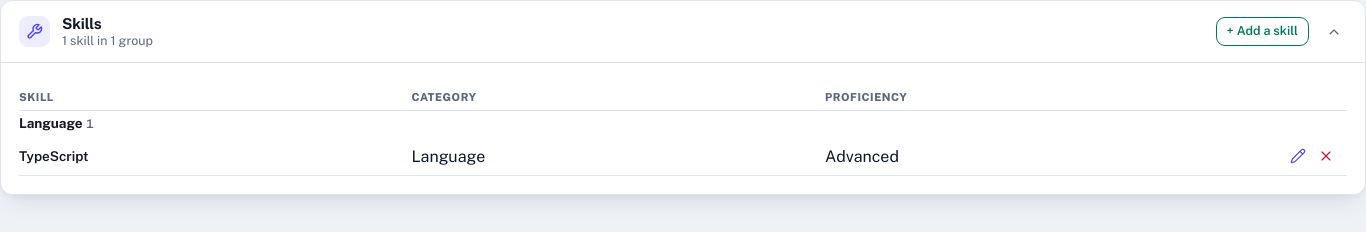
SkillsSection save reliability › a failed delete does not leave the skill removed
What coordinates should you click on to do the following:
click the button named "Remove TypeScript"
I would click on:
 (1326, 156)
Its box is [1313,143,1339,169].
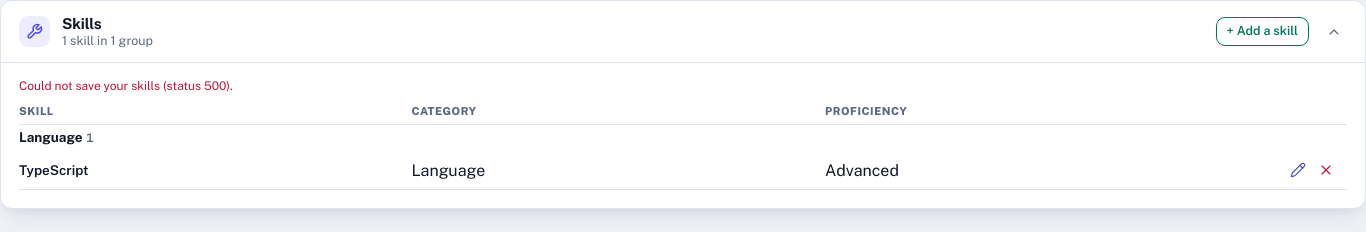
expect the text "TypeScript" is shown: met, box [19,151,412,190]
expect the message "Could not save your skills (status 500)." is shown: met, box [19,79,233,93]
